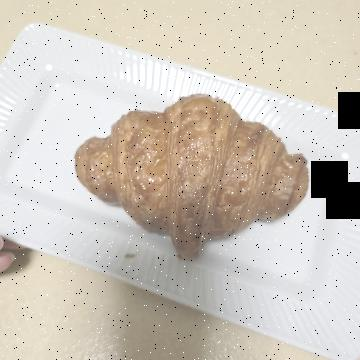croissant: (81, 46, 275, 302)
